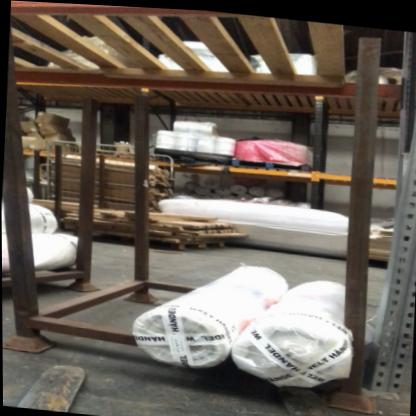vertical_damage: (367, 348, 407, 404)
